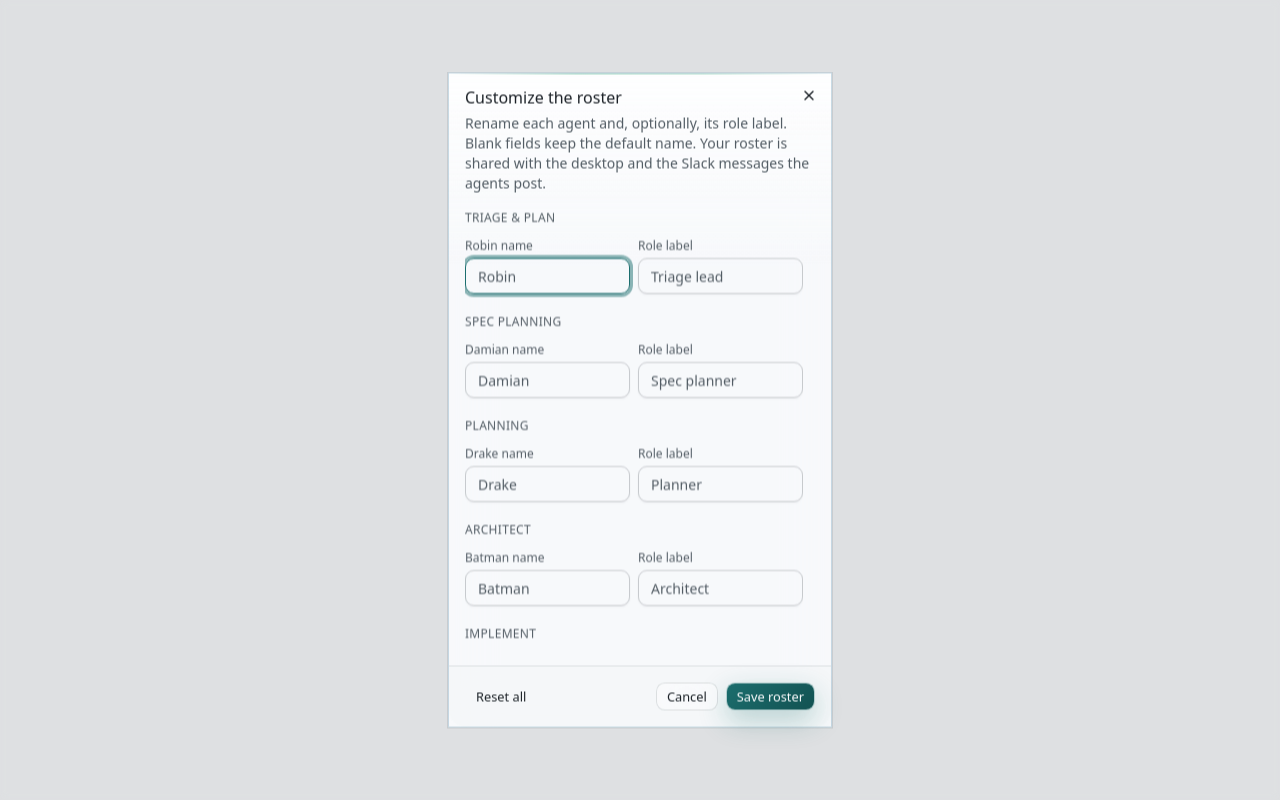
CustomThemeEditor › does NOT close before a SLOW rejection resolves (no fixed-timer race)
The width and height of the screenshot is (1280, 800).
Click the button "Save roster": (770, 696) [726,682,815,710]
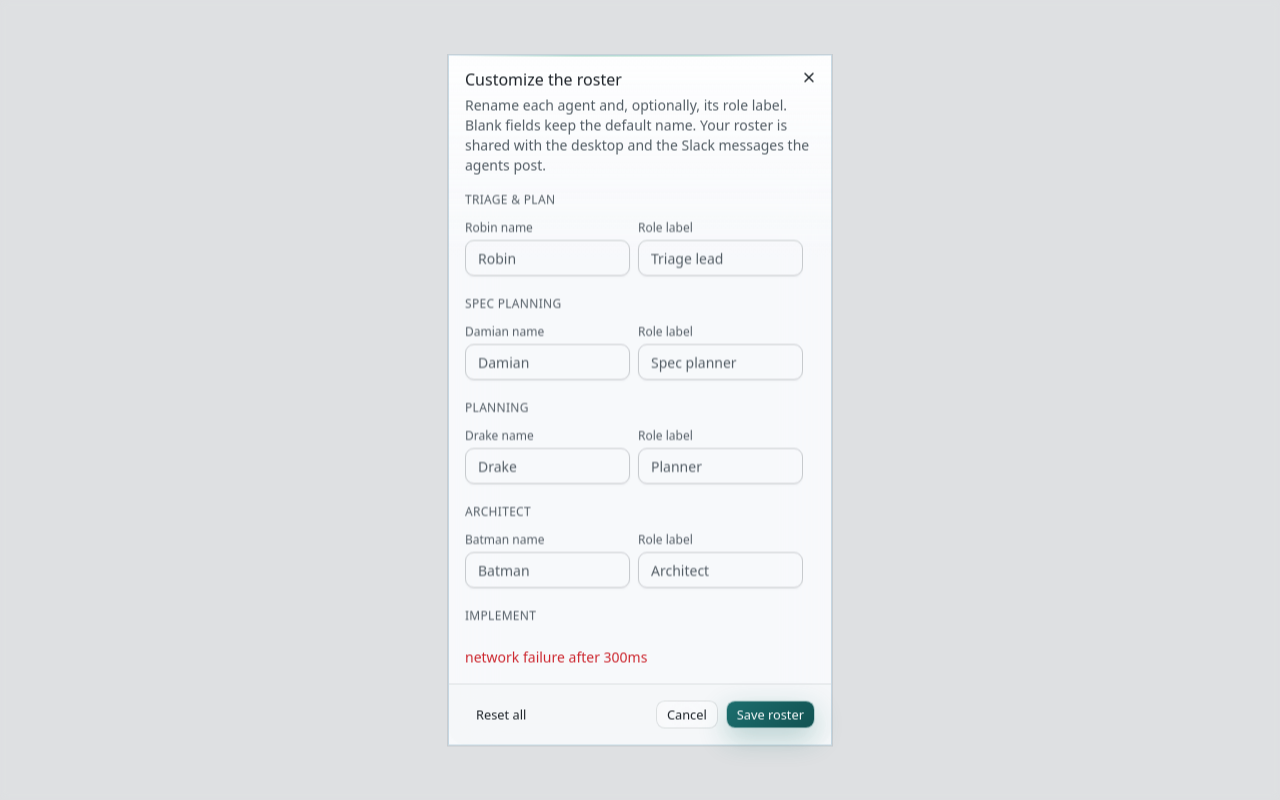
Result: the message shows "network failure" at [465,648,647,666]
